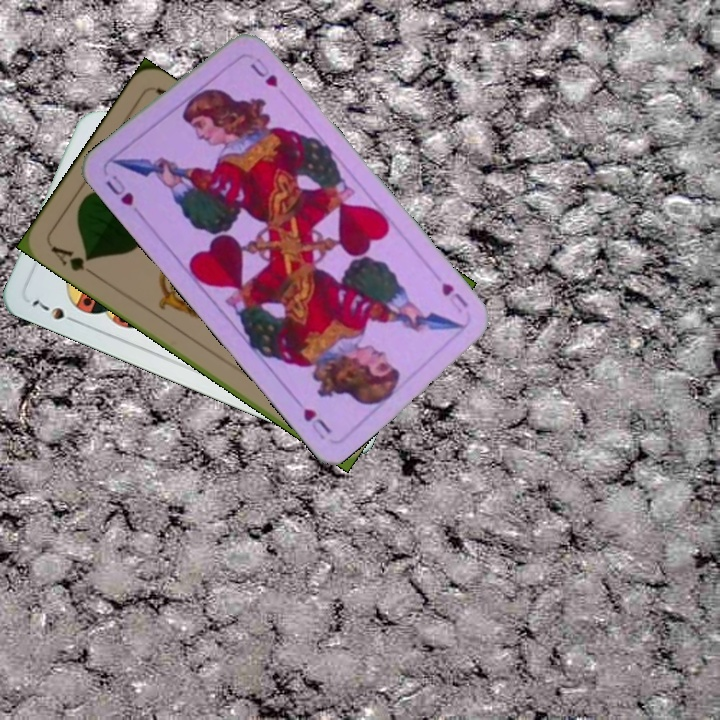GA: (46, 241, 99, 280)
HU: (101, 171, 145, 219), (437, 278, 471, 316)
S7: (27, 295, 82, 326)
